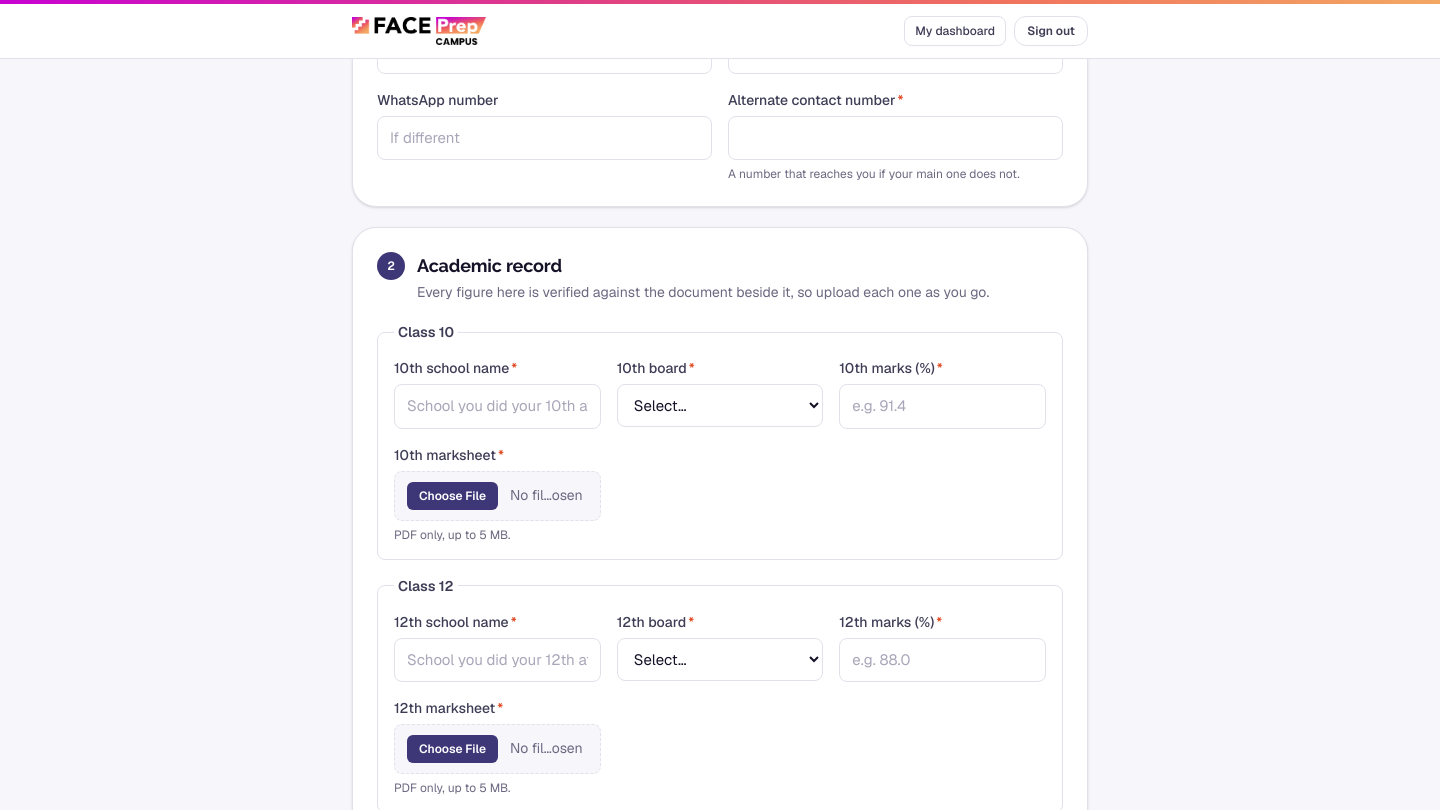
Test: SrfPage › academic section › renders grade input and makes percentage optional when Other board is selected
The width and height of the screenshot is (1440, 810).
(page scrolled)
Select "Other" in the dropdown labelled "10th board*": (720, 406) [617,384,823,427]
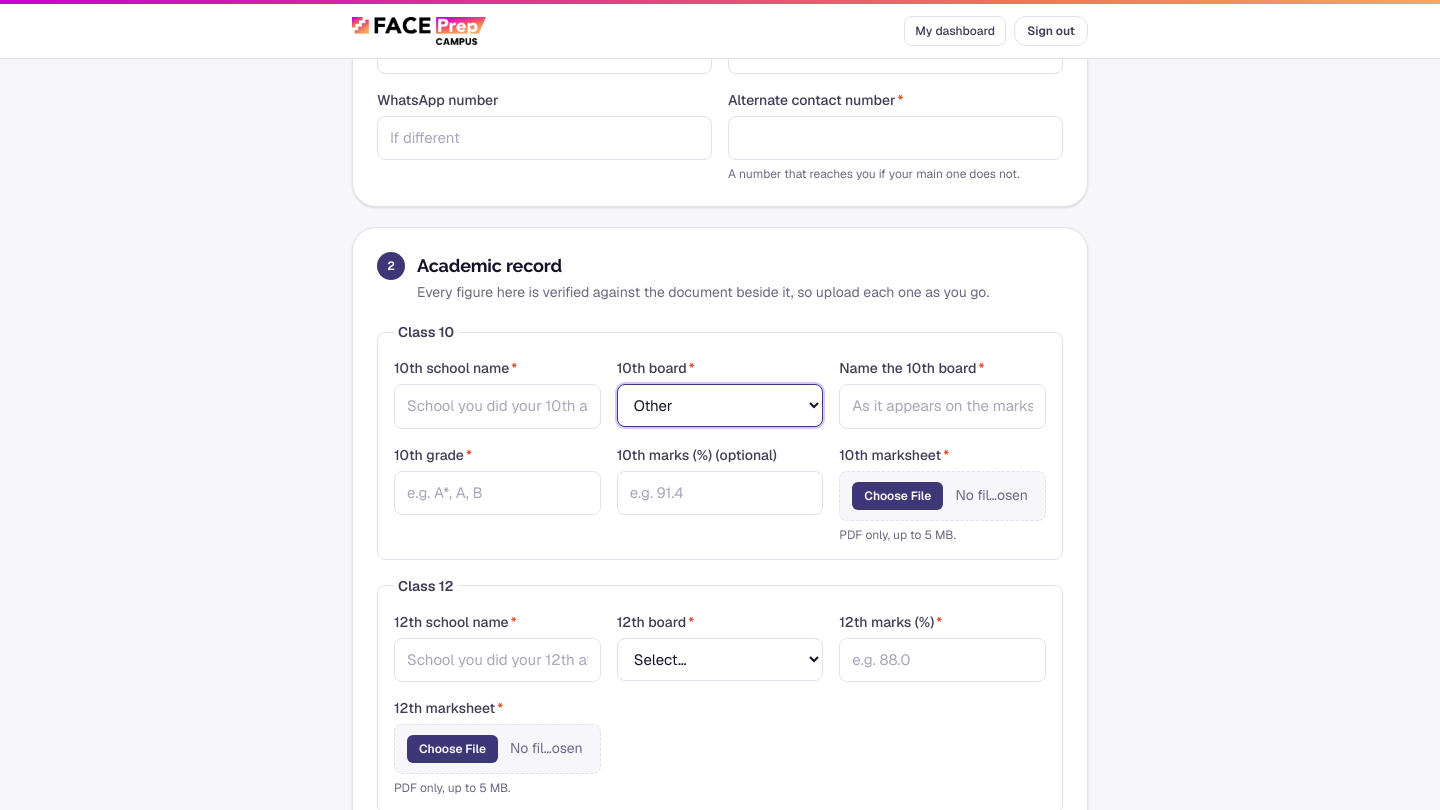
Expected: the number field labelled "10th marks (%) (optional)" is shown, [617,470,823,515]
Now the field labelled "Name the 10th board*" is shown, box [839,384,1046,428]
Now the field labelled "10th grade*" is shown, box [394,470,601,515]
